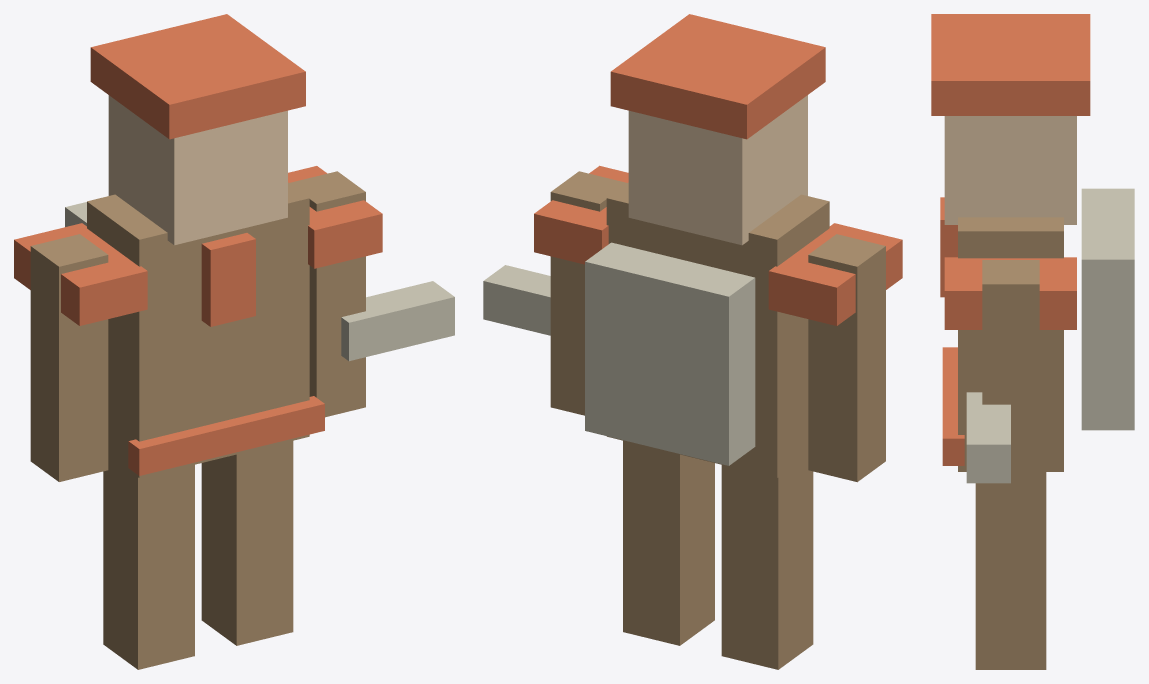
File: 07_bex_runeclasp_cartographer_under_mirage.glb
The picture shows the model from 3 angles, left to right: view 1: azimuth 30°, elevation 25°; view 2: azimuth 150°, elevation 25°; view 3: azimuth 270°, elevation 25°; orthographic projection.
Parts seen in each view (by area): view 1: Bex Runeclasp, Cartographer under Mirage; view 2: Bex Runeclasp, Cartographer under Mirage; view 3: Bex Runeclasp, Cartographer under Mirage.
Boxes of the visible parts, box(x1,y1,x2,y2) form: Bex Runeclasp, Cartographer under Mirage: box(14, 14, 454, 669); Bex Runeclasp, Cartographer under Mirage: box(483, 14, 902, 669); Bex Runeclasp, Cartographer under Mirage: box(931, 14, 1134, 669).
Bounding box in the file's own units: 1 × 1.43 × 0.4501.
